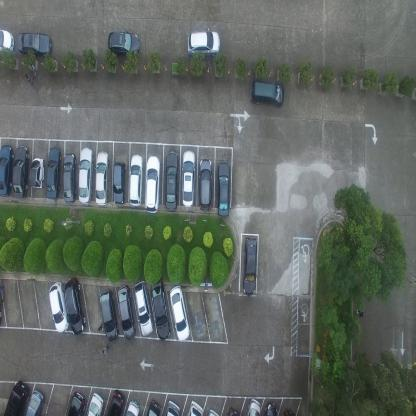car: (64, 276, 86, 335), (168, 285, 191, 341), (150, 276, 170, 340), (99, 287, 120, 342), (48, 280, 70, 332), (134, 280, 153, 338), (117, 283, 136, 340), (249, 79, 284, 108), (16, 30, 52, 58), (12, 144, 30, 199), (242, 236, 258, 297), (3, 380, 30, 416), (108, 29, 140, 59), (187, 28, 221, 56), (164, 148, 179, 211), (144, 154, 160, 213), (94, 150, 110, 206), (78, 145, 93, 204), (45, 146, 61, 201), (128, 154, 144, 207), (216, 161, 231, 217), (181, 149, 195, 208), (0, 142, 14, 199), (198, 157, 212, 212), (62, 151, 76, 203), (112, 160, 126, 204), (24, 389, 45, 415), (28, 157, 44, 190), (107, 388, 126, 415), (66, 390, 86, 415), (0, 26, 15, 56), (86, 390, 104, 415), (186, 398, 204, 416), (246, 397, 262, 415), (146, 397, 161, 415), (263, 400, 278, 416), (165, 400, 180, 415), (126, 400, 140, 416), (281, 405, 297, 415), (226, 408, 241, 416), (207, 407, 221, 415)
